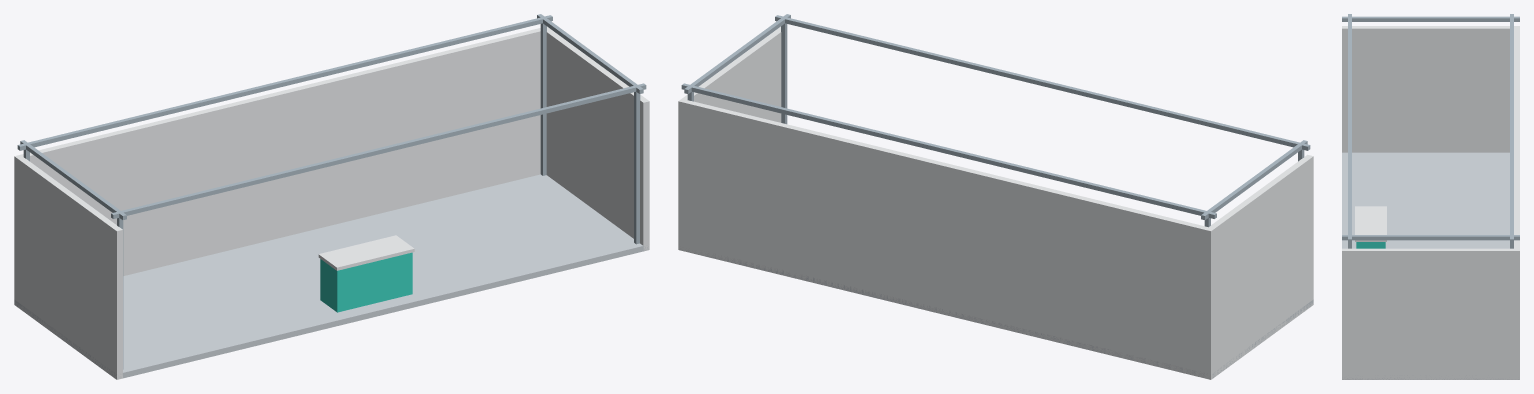
3 renders of one model, left to right at view 1: azimuth 30°, elevation 25°; view 2: azimuth 150°, elevation 25°; view 3: azimuth 270°, elevation 25°, orthographic. The views are drawn at different scales.
Visible parts, largest first — view 1: Exhibition Booth Concept; view 2: Exhibition Booth Concept; view 3: Exhibition Booth Concept.
Part boxes in pixels (left/top/right/bottom): Exhibition Booth Concept: left=14, top=14, right=649, bottom=379; Exhibition Booth Concept: left=678, top=14, right=1313, bottom=379; Exhibition Booth Concept: left=1342, top=14, right=1519, bottom=379.
Size of the model in its own units: 12 by 3.49 by 4.
